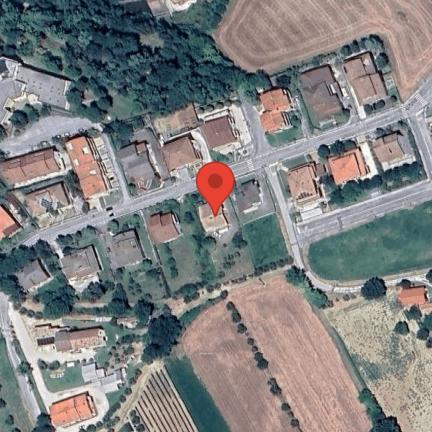area_open: (2, 105, 95, 158), (393, 93, 432, 132)
built: (297, 64, 355, 132), (64, 131, 110, 201), (117, 138, 168, 196), (343, 50, 391, 109), (0, 146, 63, 187), (19, 65, 71, 112), (19, 181, 76, 222), (201, 109, 250, 153), (329, 145, 376, 190), (154, 102, 204, 143), (283, 159, 323, 210), (48, 392, 99, 430), (1, 59, 26, 127), (373, 131, 413, 173), (62, 245, 103, 285), (163, 135, 206, 173), (107, 228, 146, 267), (15, 259, 54, 297), (235, 177, 267, 218), (259, 84, 298, 117), (56, 329, 105, 352), (202, 195, 231, 233), (149, 214, 181, 247), (260, 112, 293, 137), (0, 207, 23, 242)
vegetation_high: (0, 0, 296, 145), (0, 232, 56, 310), (145, 302, 209, 364), (37, 279, 78, 320)
vegetation_low: (117, 273, 380, 432), (218, 0, 432, 104), (317, 288, 432, 432), (114, 194, 253, 298), (308, 199, 432, 287), (38, 322, 148, 413), (57, 198, 175, 253), (0, 330, 36, 432), (243, 211, 295, 273)
